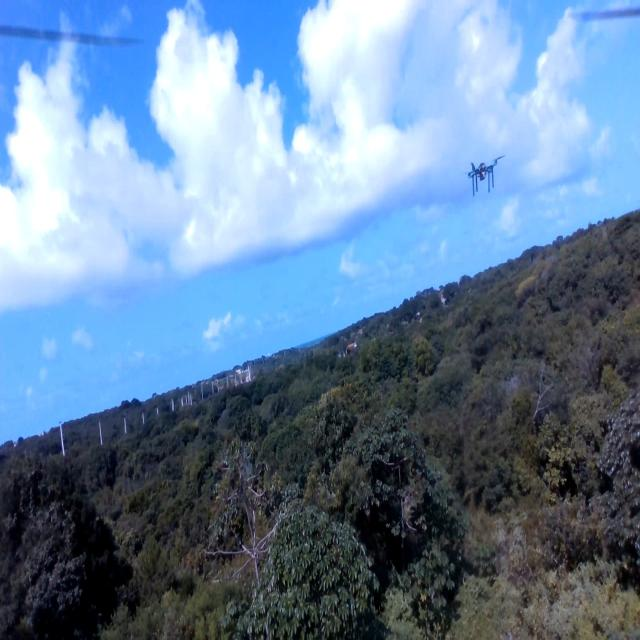-uav-: (462, 147, 508, 196)
